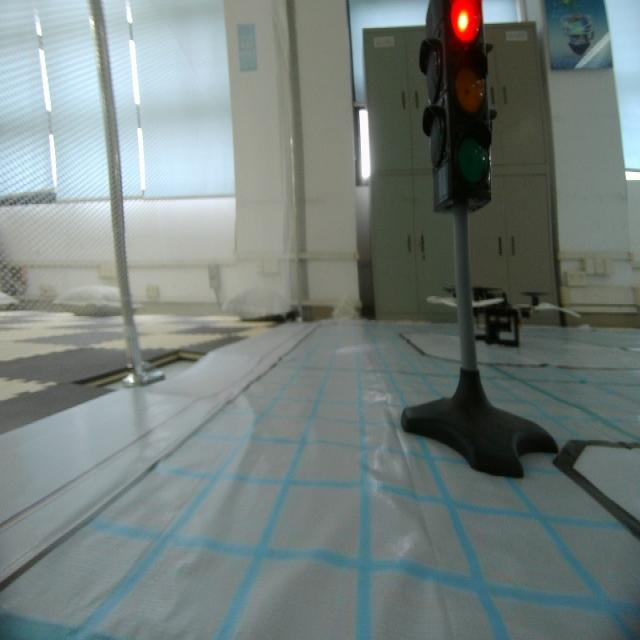red: (423, 0, 504, 217)
